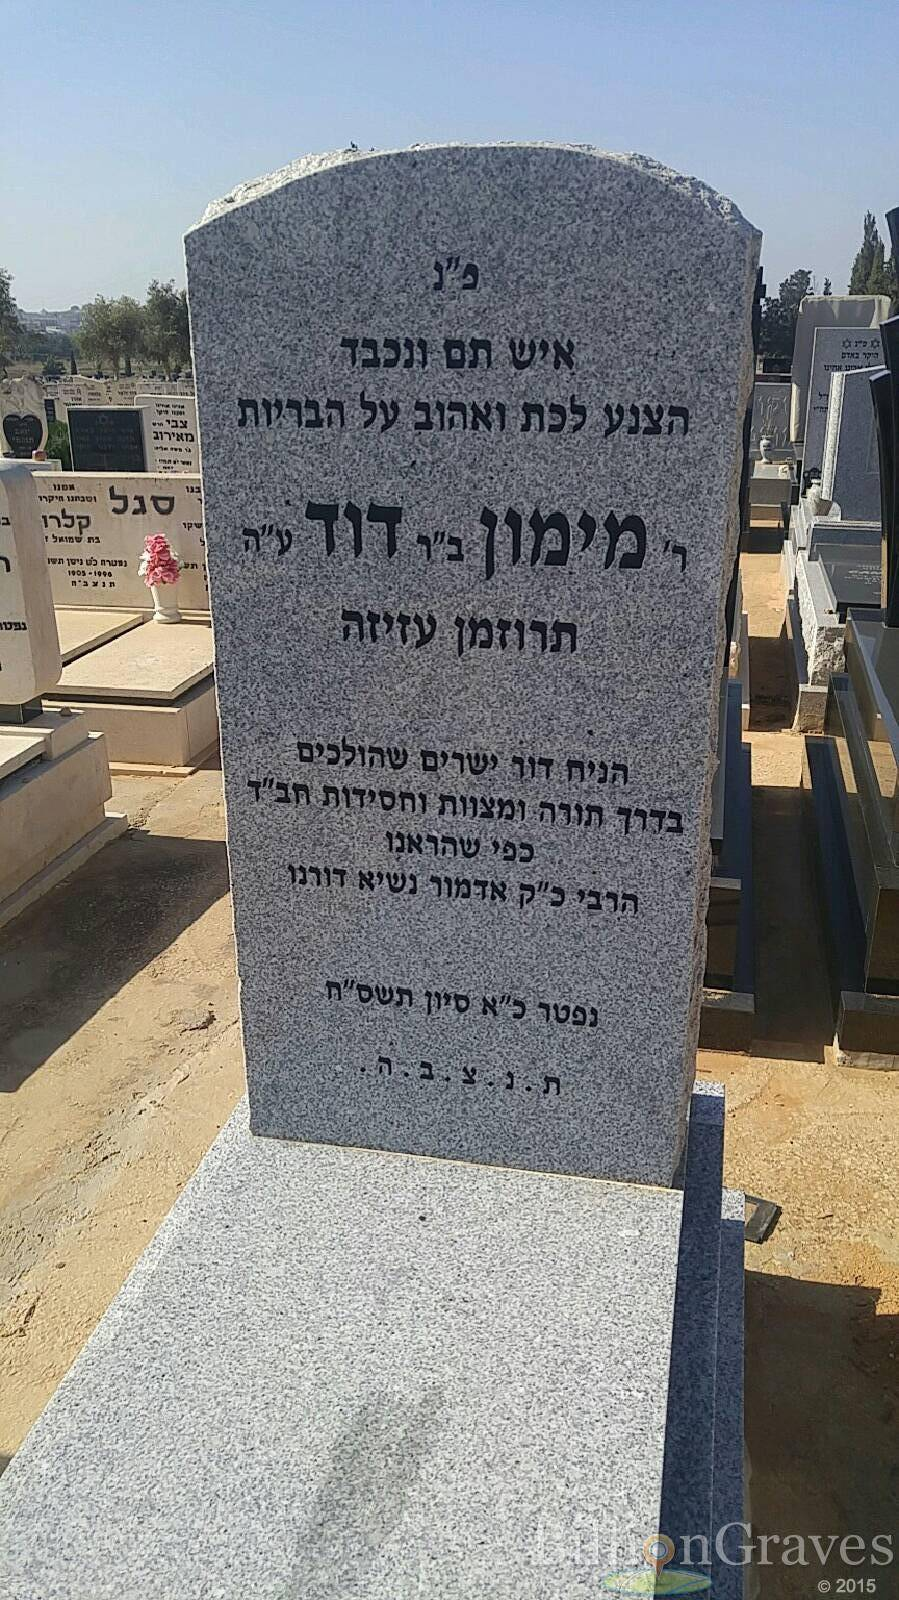vault: (19, 88, 793, 1510)
